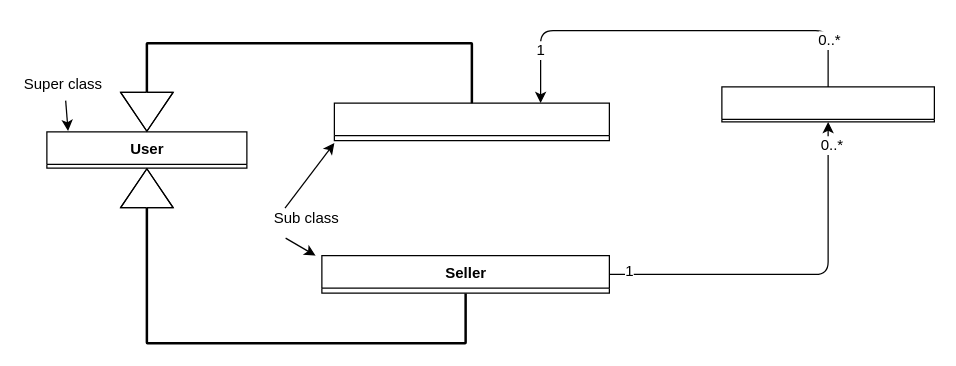
This 956x366 diagram has some shape labels left out. The shapes that lost their labels are listed below. From the top down, each one's centre as x and y in pixels, then its label:
At pixel 471 121: "Buyer".
At pixel 827 104: "Item".
